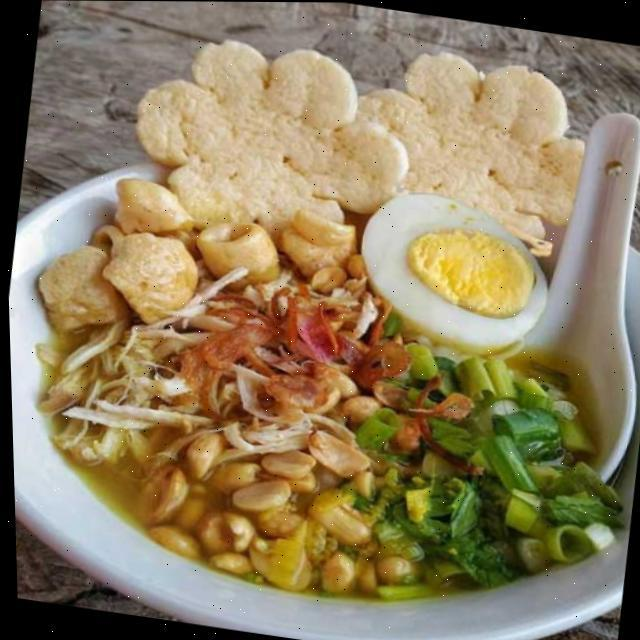bubur ayam: (5, 171, 640, 640)
mangkuk: (4, 142, 640, 640)
telur rebus: (345, 184, 562, 368)
